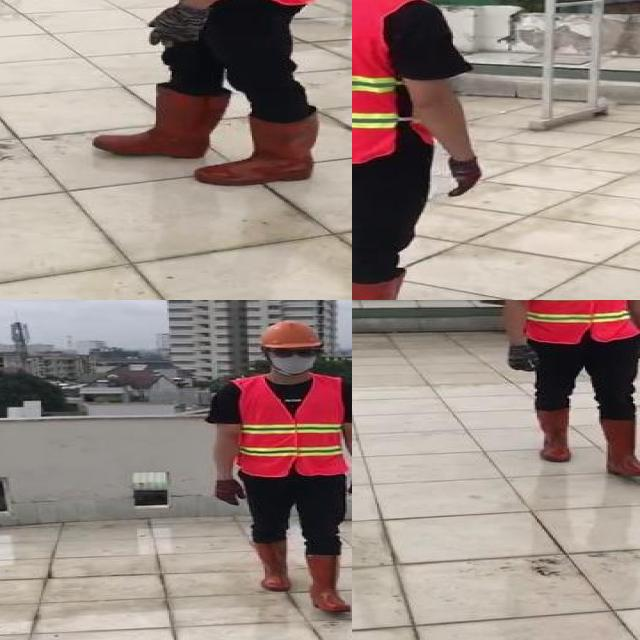boots: (193, 110, 323, 186), (94, 88, 229, 158), (306, 553, 352, 614), (532, 404, 576, 463), (352, 272, 444, 300), (601, 417, 640, 478), (252, 539, 292, 590)
face_mask: (268, 343, 318, 374)
glasses: (261, 342, 322, 359)
hand_glove: (146, 8, 208, 46), (446, 159, 480, 199), (213, 479, 246, 507), (505, 344, 539, 371), (636, 335, 640, 362)
head_helmet: (252, 321, 330, 352)
person: (84, 0, 352, 181), (213, 316, 352, 614), (352, 0, 487, 300), (492, 300, 640, 485)
vest: (231, 375, 349, 476), (352, 0, 413, 164), (521, 300, 640, 341)
